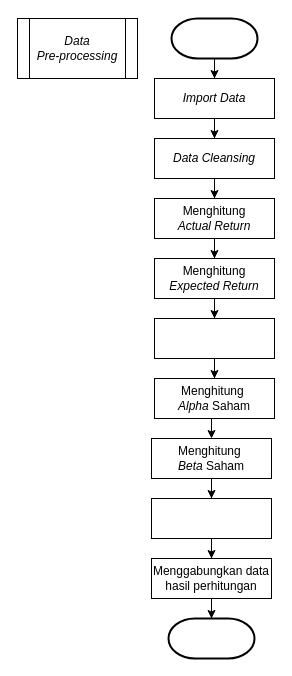
This 292x676 diagram has some shape labels left out. Each missing label, with the centre of its shape:
"Menghitung Variance Error Residual Saham" belongs at (x=211, y=518).
"Menghitung Variance Saham" belongs at (x=214, y=338).
"Mulai" belongs at (x=214, y=38).
"Selesai" belongs at (x=211, y=638).
